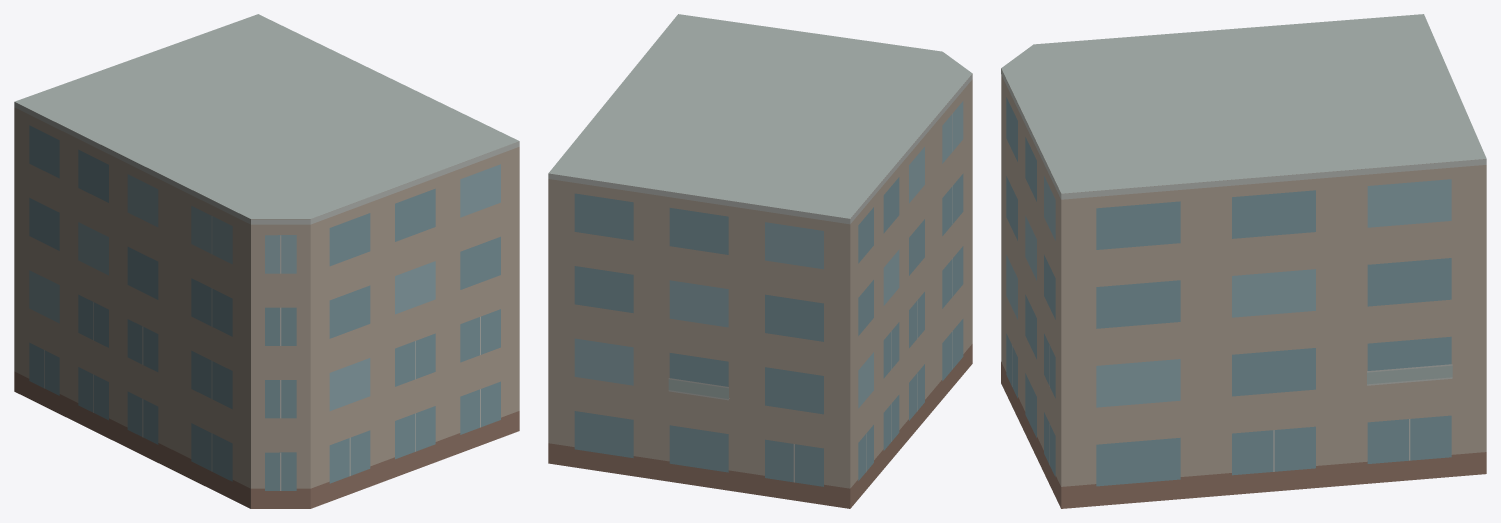
File: survey-upis-32707658.glb
3 renders of one model, left to right at view 1: azimuth 30°, elevation 25°; view 2: azimuth 150°, elevation 25°; view 3: azimuth 270°, elevation 25°, orthographic. The views are drawn at different scales.
Visible parts, largest first — view 1: survey-upis-32707658.tmp; view 2: survey-upis-32707658.tmp; view 3: survey-upis-32707658.tmp.
Boxes of the visible parts, x1,y1,x2,y2 form: survey-upis-32707658.tmp: (14,14,519,508); survey-upis-32707658.tmp: (548,14,972,508); survey-upis-32707658.tmp: (1001,14,1486,508).
Size of the model in its own units: 15.66 by 12.8 by 17.88.
